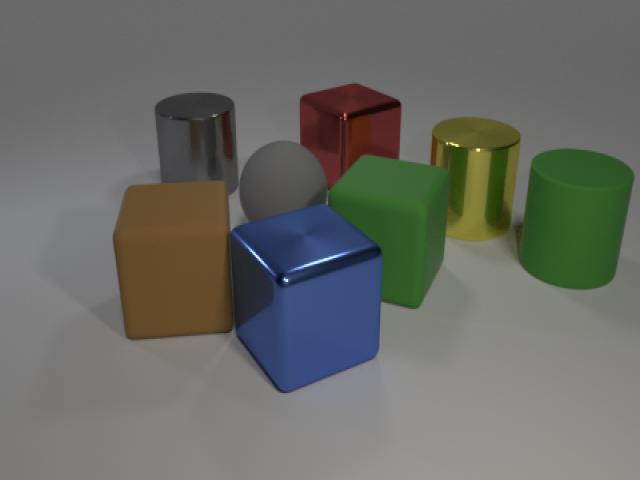cylinder: (515, 142, 637, 292), (427, 110, 524, 242), (150, 84, 240, 197)
round ball: (240, 134, 328, 225)
